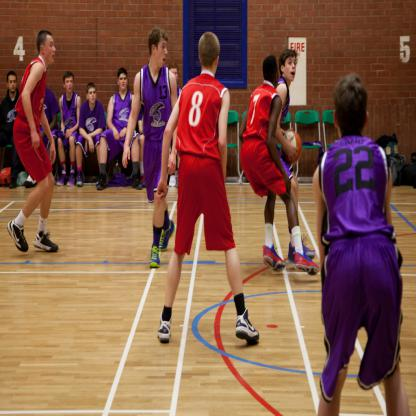Ball: (283, 130, 301, 164)
